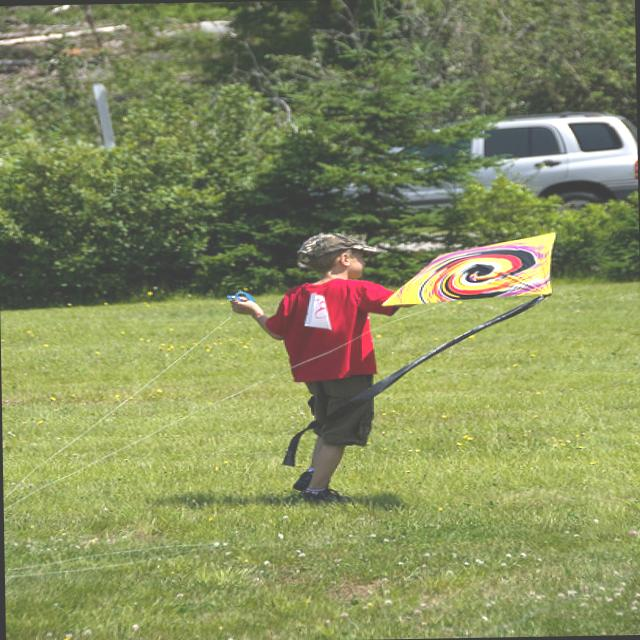Vehicle: (466, 113, 638, 209)
